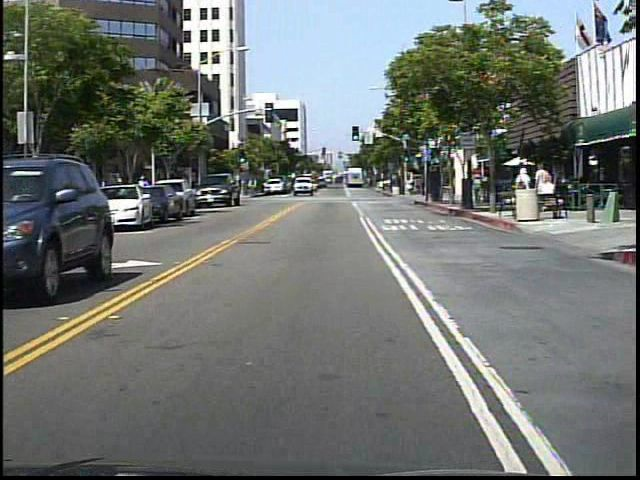person: (247, 176, 260, 200)
